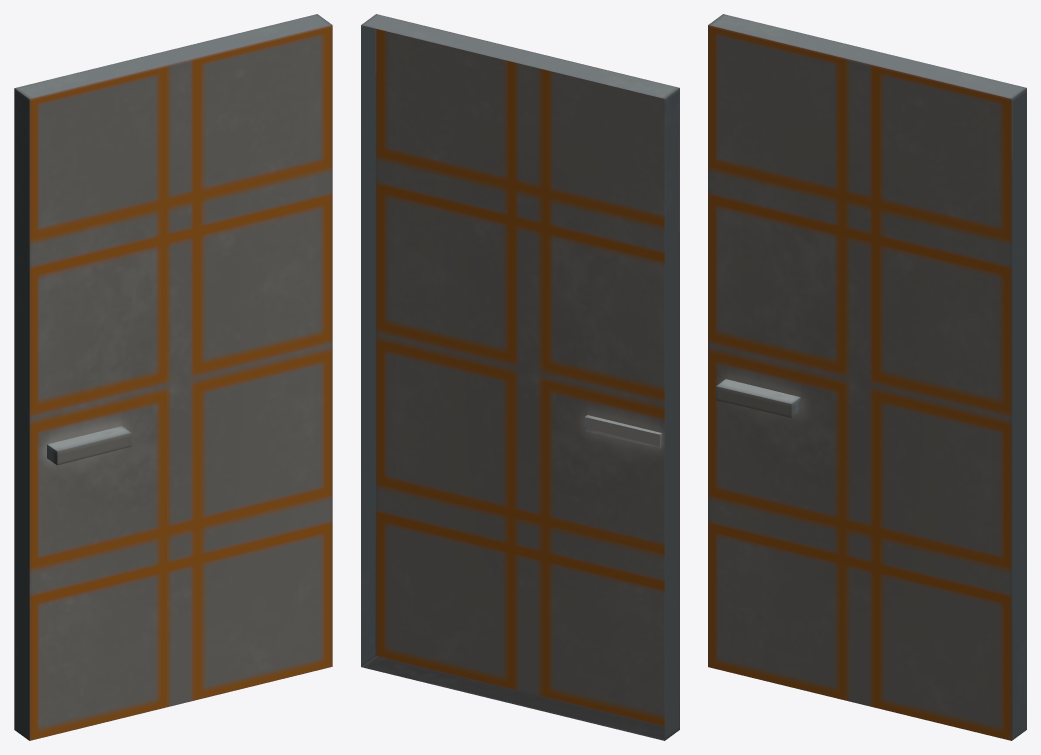
File: Door.fbx
3 renders of one model, left to right at view 1: azimuth 30°, elevation 25°; view 2: azimuth 150°, elevation 25°; view 3: azimuth 330°, elevation 25°, orthographic.
Parts seen in each view (by area): view 1: Cube.005; view 2: Cube.005; view 3: Cube.005.
Part boxes in pixels (x1,y1,x2,y2): Cube.005: (14,14,332,740); Cube.005: (361,14,679,740); Cube.005: (708,14,1026,740).
Bounding box in the file's own units: 108 × 219 × 15.64.
